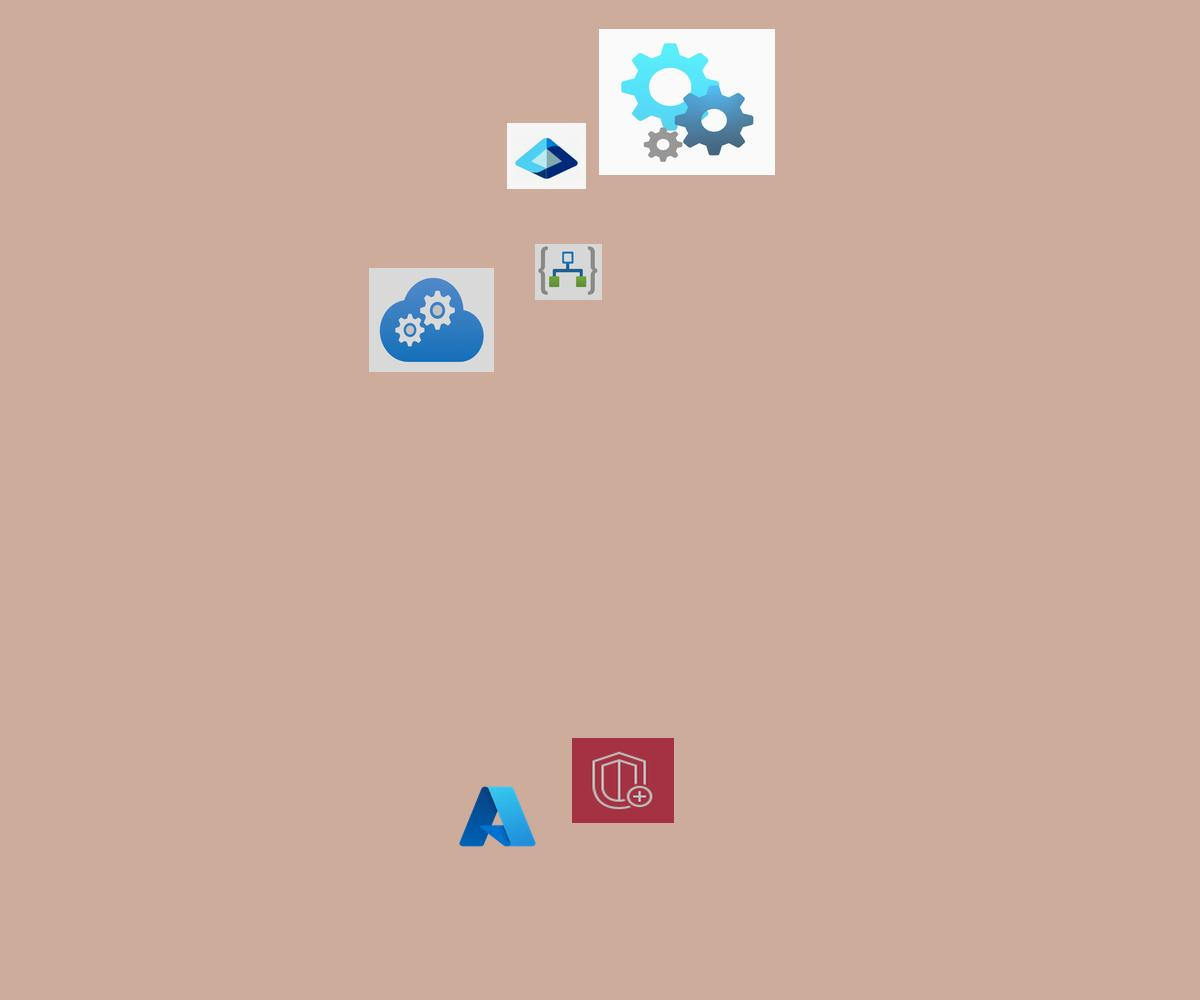AWS-Shield: (572, 738, 674, 823)
Azure_api: (599, 29, 775, 175)
Azure_cloud_services: (369, 268, 494, 372)
Azure_integration-204-Logic-Apps: (535, 244, 602, 300)
Azure_microsoft_entra: (507, 123, 586, 189)
Azure_services: (456, 782, 539, 851)
